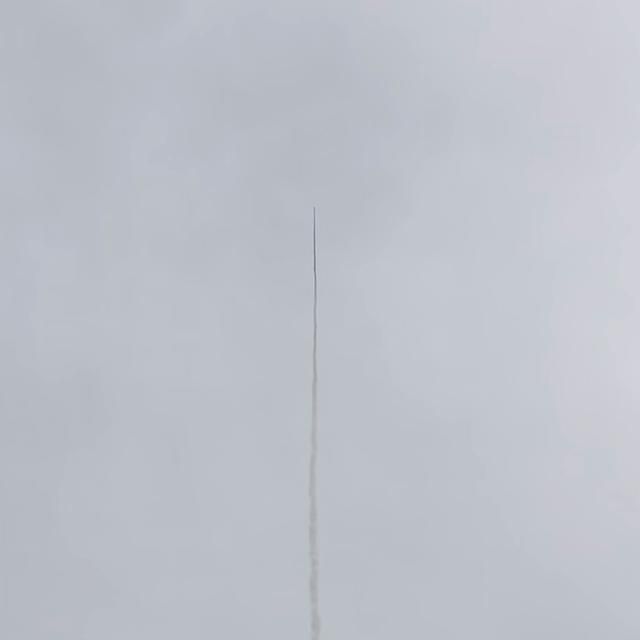smoke_trail_with_rocket: (308, 209, 319, 640)
